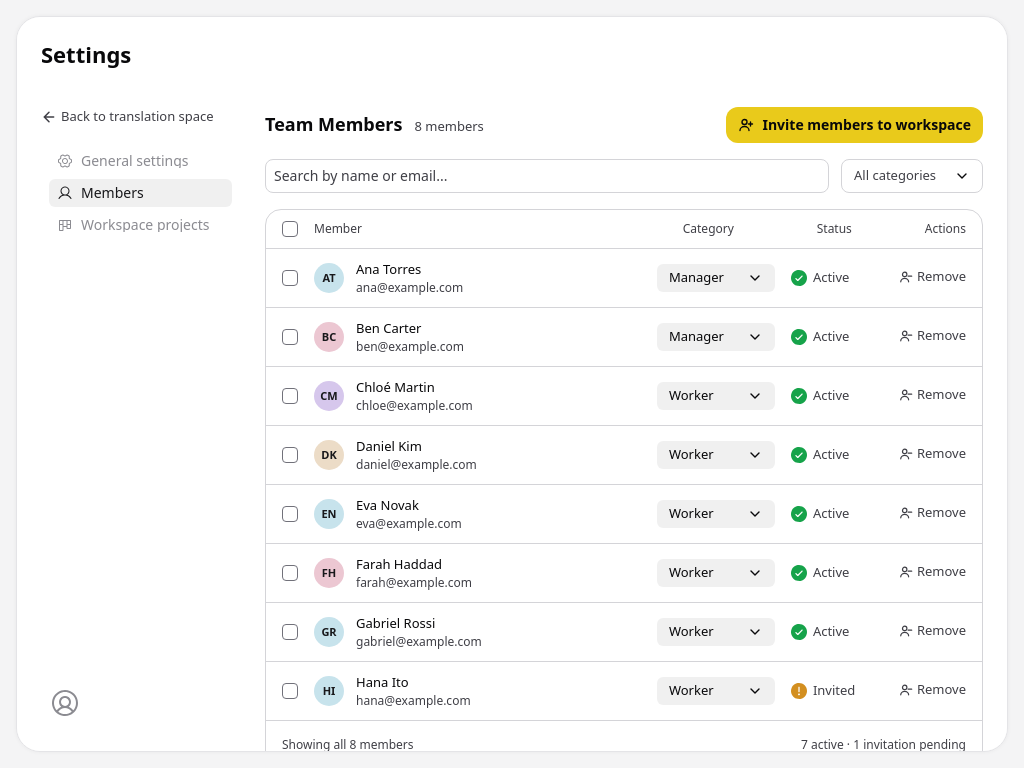
Settings > Members › lists members with counts and the legend, and searches them
The width and height of the screenshot is (1024, 768).
expect the text "Ana Torres" is shown: met, box [356,260,421,278]
expect the text "7 active · 1 invitation pending" is shown: met, box [801,737,966,752]
Type "chloe" into the search field.
click(547, 176); type("chloe")  # box [274,166,820,186]
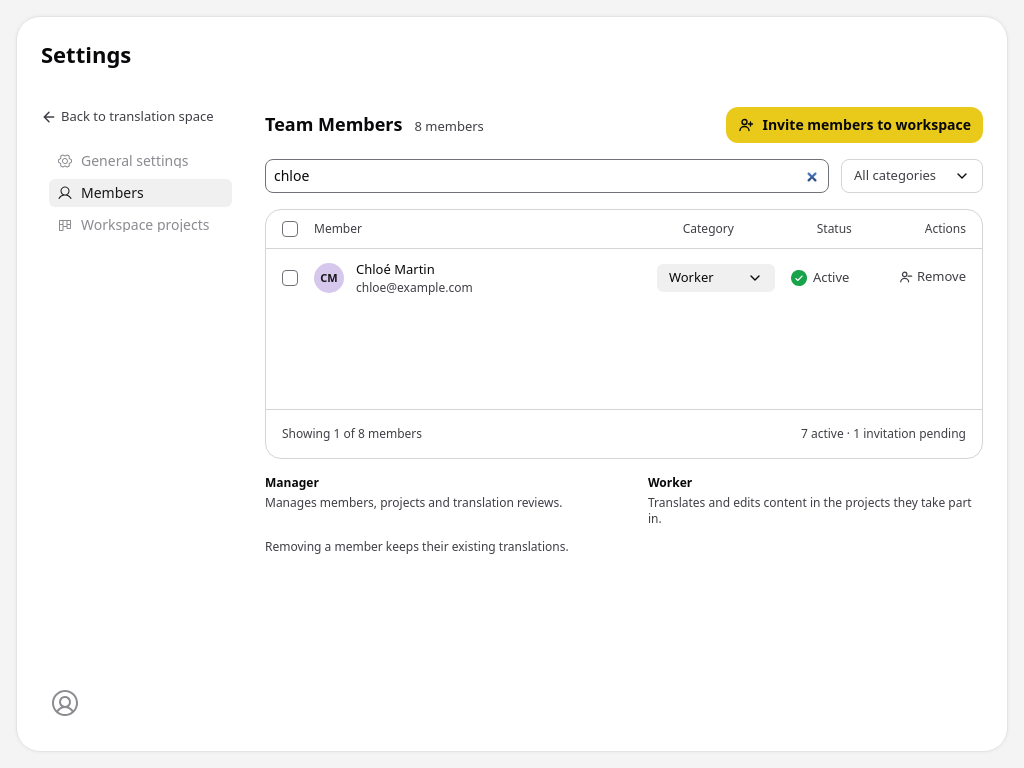
expect the text "Showing 1 of 8 members" is shown: met, box [282,426,422,442]
